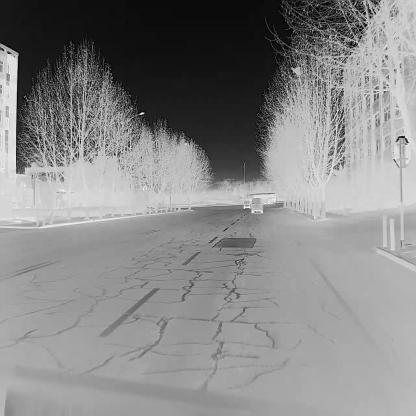bus: (245, 191, 276, 205)
car: (250, 196, 264, 213), (242, 199, 250, 209)
